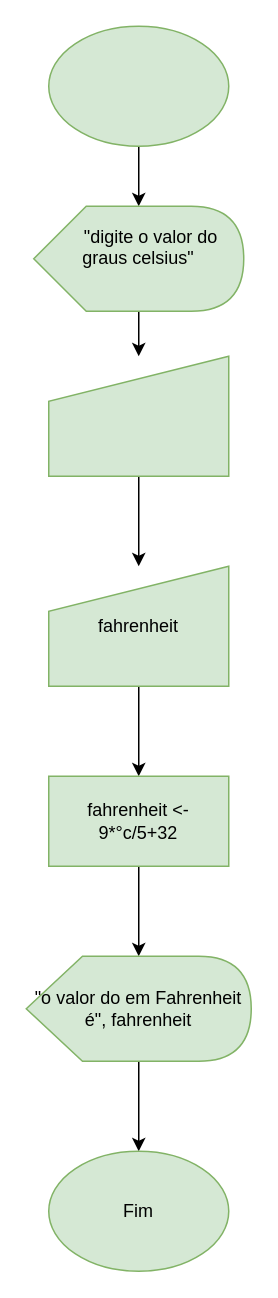
The diagram is 278 pixels wide and 1298 high, and some of its shapes have lost their labels. The box of each missing label's shape, as (x1, y1, x2, y2) in pixels:
grauCelsius: (47, 355, 229, 476)
Início: (47, 25, 229, 146)
